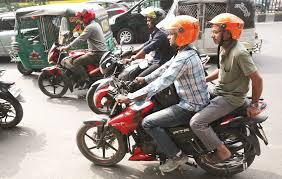helmet: (153, 14, 200, 50), (209, 10, 244, 47)
